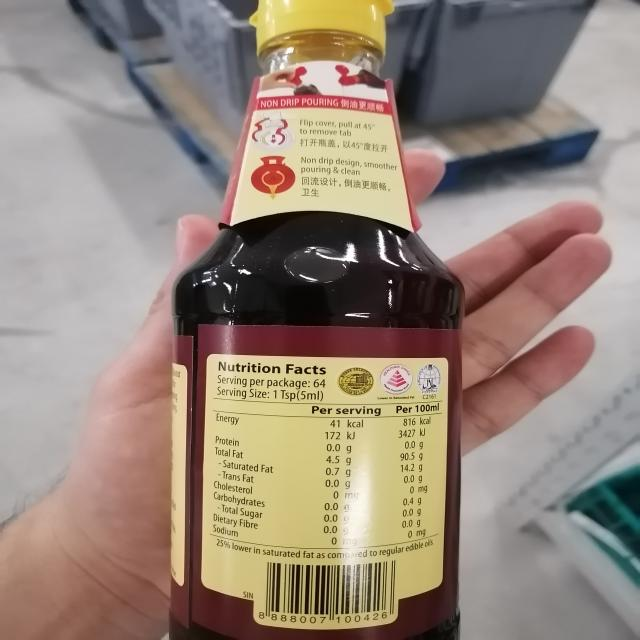object_name: (176, 0, 455, 640)
